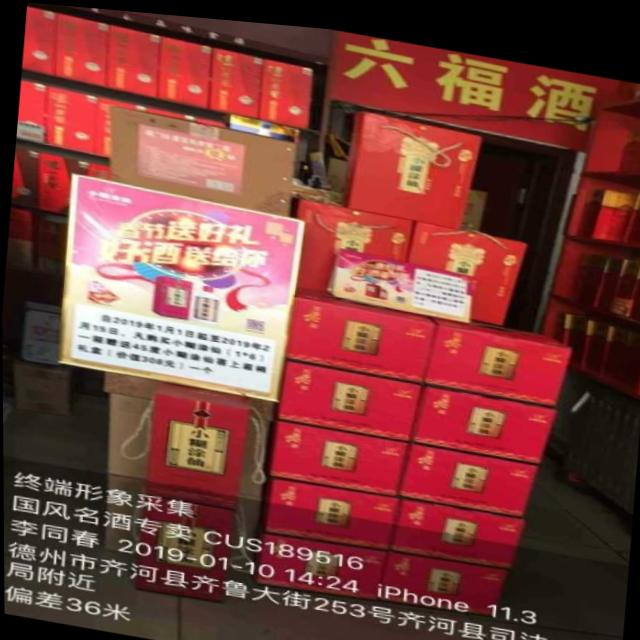box: (108, 102, 297, 211), (340, 104, 483, 221), (143, 379, 250, 506), (286, 286, 437, 375), (421, 308, 572, 396), (407, 213, 526, 316), (294, 192, 413, 289), (277, 356, 421, 434), (410, 377, 555, 453), (131, 493, 235, 598), (269, 414, 410, 489), (399, 433, 538, 507), (388, 489, 524, 559), (263, 472, 398, 542), (253, 527, 386, 593), (380, 542, 506, 607), (237, 394, 280, 497), (105, 392, 156, 477), (157, 33, 212, 105), (106, 23, 160, 95), (56, 12, 109, 85), (210, 43, 264, 114), (259, 54, 313, 123), (46, 84, 98, 151), (576, 177, 636, 230), (101, 369, 161, 398)
